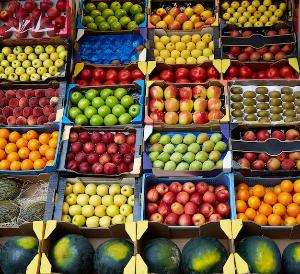apple: (143, 179, 230, 228), (62, 178, 136, 228), (62, 132, 140, 172), (66, 86, 142, 124), (148, 88, 224, 124), (0, 0, 70, 38), (0, 44, 68, 82), (234, 132, 300, 168), (218, 0, 296, 28), (220, 31, 296, 59), (82, 0, 150, 26), (151, 32, 216, 59), (151, 2, 215, 28), (76, 64, 142, 87), (152, 62, 222, 82), (227, 63, 295, 78)
kiwi: (226, 82, 300, 124)
orange: (234, 178, 300, 226), (0, 132, 58, 172)
peach: (1, 84, 60, 125)
pear: (144, 126, 236, 170)
watermelon: (39, 229, 139, 269), (139, 231, 232, 274), (236, 226, 300, 274), (1, 226, 42, 274)
